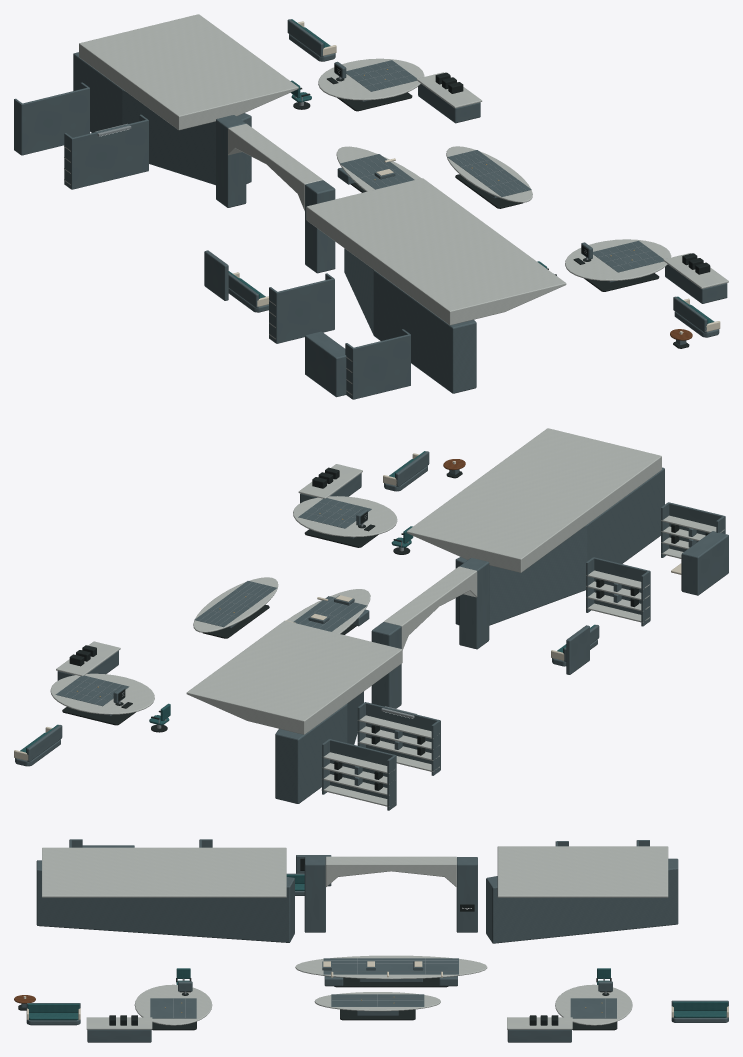
File: D18_directory_02.glb
The picture shows the model from 3 angles, top to bottom: view 1: azimuth 30°, elevation 25°; view 2: azimuth 150°, elevation 25°; view 3: azimuth 270°, elevation 25°; orthographic projection. The views are drawn at different scales.
Parts seen in each view (by area): view 1: A_AftArchiveCoffer, A_ForeArchiveCoffer, A_AftArchiveBlade, A_ForeArchiveBlade, A_ChartArchive1_back, A_ChartArchive0_back, A_ChartArchive2_back, A_ChartArchive3_back, A_ArrivalVault, A_ArrivalLeftJamb, A_ChartCare_carcass, A_OutwardChart0_top (+13 smaller); view 2: A_AftArchiveCoffer, A_ForeArchiveCoffer, A_AftArchiveBlade, A_ForeArchiveBlade, A_ArrivalVault, A_ChartCare_carcass, A_ArrivalRightJamb, A_OutwardChart0_top, A_OutwardChart1_top, A_ArrivalLeftJamb, A_ComparisonInset_field, A_ChartArchive1_back (+11 smaller); view 3: A_AftArchiveCoffer, A_AftArchiveBlade, A_ForeArchiveCoffer, A_ForeArchiveBlade, A_ArrivalVault, A_MainRouteChart_field, A_ArrivalRightJamb, A_ChartNave_top, A_OutwardChart1_top, A_ArrivalLeftJamb, A_OutwardChart0_top, A_ComparisonInset_field (+13 smaller).
Boxes of the visible parts, <box> form: A_AftArchiveCoffer: <box>306,178,566,325</box>; A_ForeArchiveCoffer: <box>79,14,298,130</box>; A_AftArchiveBlade: <box>344,248,476,393</box>; A_ForeArchiveBlade: <box>73,52,251,185</box>; A_ChartArchive1_back: <box>71,119,148,189</box>; A_ChartArchive0_back: <box>20,87,89,155</box>; A_ChartArchive2_back: <box>275,278,334,343</box>; A_ChartArchive3_back: <box>352,334,410,399</box>; A_ArrivalVault: <box>228,123,322,210</box>; A_ArrivalLeftJamb: <box>216,115,246,207</box>; A_ChartCare_carcass: <box>305,331,346,397</box>; A_OutwardChart0_top: <box>318,58,424,100</box>; A_AftArchiveCoffer: <box>406,428,661,572</box>; A_ForeArchiveCoffer: <box>186,620,402,734</box>; A_AftArchiveBlade: <box>455,467,664,625</box>; A_ForeArchiveBlade: <box>275,691,363,803</box>; A_ArrivalVault: <box>384,566,477,649</box>; A_ChartCare_carcass: <box>681,531,728,595</box>; A_ArrivalRightJamb: <box>459,558,489,649</box>; A_OutwardChart0_top: <box>50,673,154,714</box>; A_OutwardChart1_top: <box>293,496,397,537</box>; A_ArrivalLeftJamb: <box>371,622,401,708</box>; A_ComparisonInset_field: <box>194,581,276,627</box>; A_ChartArchive1_back: <box>365,702,440,770</box>; A_AftArchiveCoffer: <box>42,847,286,897</box>; A_AftArchiveBlade: <box>36,860,294,942</box>; A_ForeArchiveCoffer: <box>497,846,668,897</box>; A_ForeArchiveBlade: <box>486,858,678,943</box>; A_ArrivalVault: <box>325,856,456,887</box>; A_MainRouteChart_field: <box>323,958,458,974</box>; A_ArrivalRightJamb: <box>304,857,325,932</box>; A_ChartNave_top: <box>295,955,487,979</box>; A_OutwardChart1_top: <box>134,984,212,1025</box>; A_ArrivalLeftJamb: <box>456,857,477,932</box>; A_OutwardChart0_top: <box>555,984,632,1025</box>; A_ComparisonInset_field: <box>331,994,424,1006</box>.
Size of the model in its own units: 23.1 by 4.5 by 42.35.
9 materials, 9 textured.
